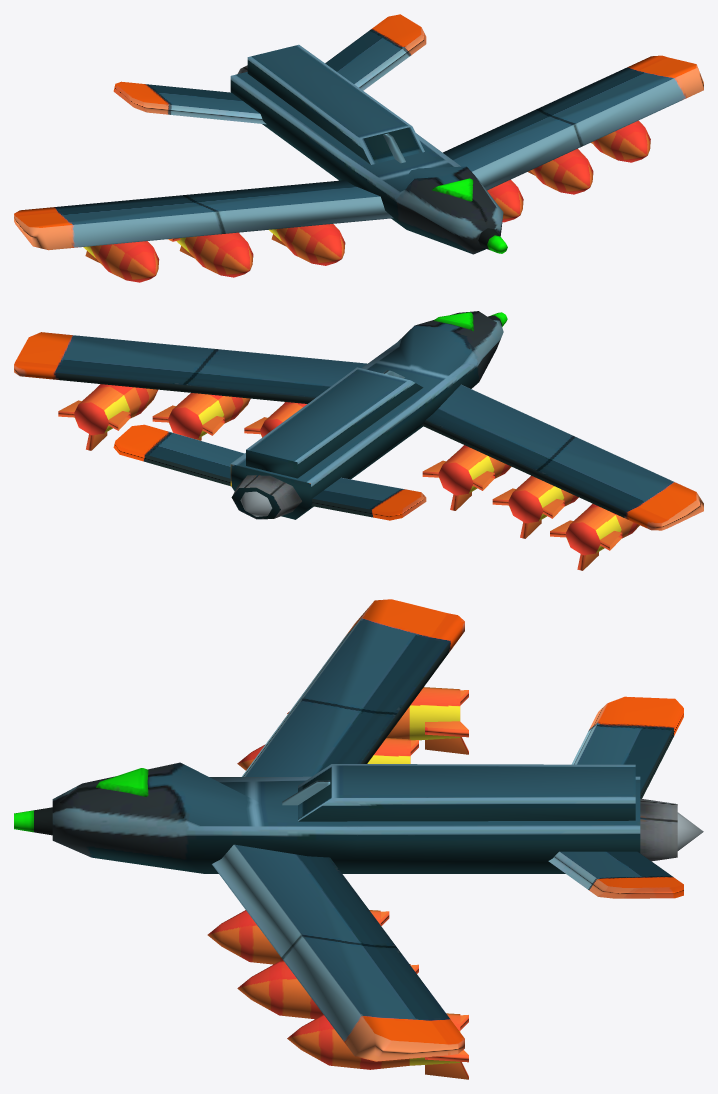
3 renders of one model, top to bottom at view 1: azimuth 30°, elevation 25°; view 2: azimuth 150°, elevation 25°; view 3: azimuth 270°, elevation 25°, orthographic. The views are drawn at different scales.
Parts seen in each view (by area): view 1: UCAVLV20Body, UCAVMissile (4), UCAVMissile (3), UCAVMissile (5), UCAVMissile (1), UCAVMissile (2), UCAVMissile; view 2: UCAVLV20Body, UCAVMissile (2), UCAVMissile (5), UCAVMissile (1), UCAVMissile (3), UCAVMissile (4), UCAVMissile; view 3: UCAVLV20Body, UCAVMissile (2), UCAVMissile (5), UCAVMissile (1), UCAVMissile, UCAVMissile (4).
Part boxes in pixels (left/top/right/bottom): UCAVLV20Body: left=14, top=14, right=703, bottom=254; UCAVMissile (4): left=168, top=232, right=253, bottom=277; UCAVMissile (3): left=269, top=224, right=345, bottom=265; UCAVMissile (5): left=83, top=241, right=159, bottom=282; UCAVMissile (1): left=528, top=148, right=593, bottom=194; UCAVMissile (2): left=591, top=120, right=650, bottom=162; UCAVMissile: left=487, top=179, right=523, bottom=222; UCAVLV20Body: left=14, top=311, right=703, bottom=530; UCAVMissile (2): left=58, top=384, right=157, bottom=450; UCAVMissile (5): left=550, top=503, right=639, bottom=570; UCAVMissile (1): left=152, top=393, right=250, bottom=440; UCAVMissile (3): left=422, top=445, right=511, bottom=510; UCAVMissile (4): left=492, top=475, right=578, bottom=538; UCAVMissile: left=244, top=402, right=306, bottom=437; UCAVLV20Body: left=14, top=599, right=703, bottom=1061; UCAVMissile (2): left=287, top=1013, right=468, bottom=1079; UCAVMissile (5): left=287, top=687, right=468, bottom=754; UCAVMissile (1): left=237, top=961, right=418, bottom=1019; UCAVMissile: left=207, top=910, right=389, bottom=964; UCAVMissile (4): left=237, top=738, right=418, bottom=770.
Size of the model in its own units: 63.23 by 9.09 by 41.57.
